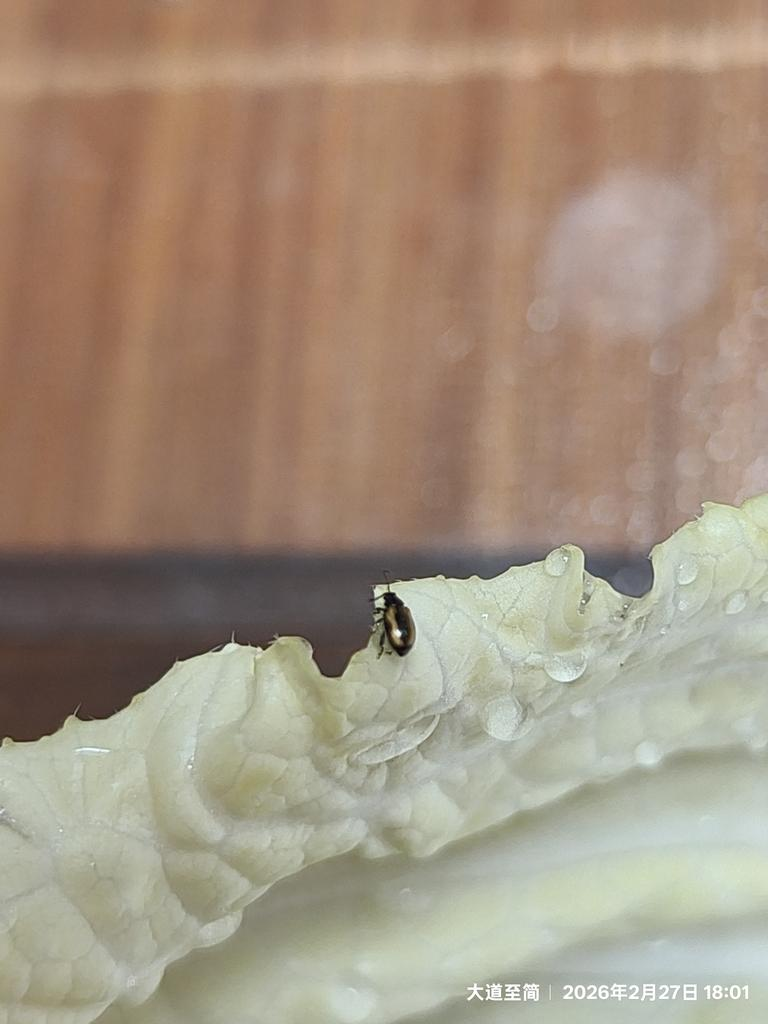flea_beetle: (343, 559, 444, 677)
